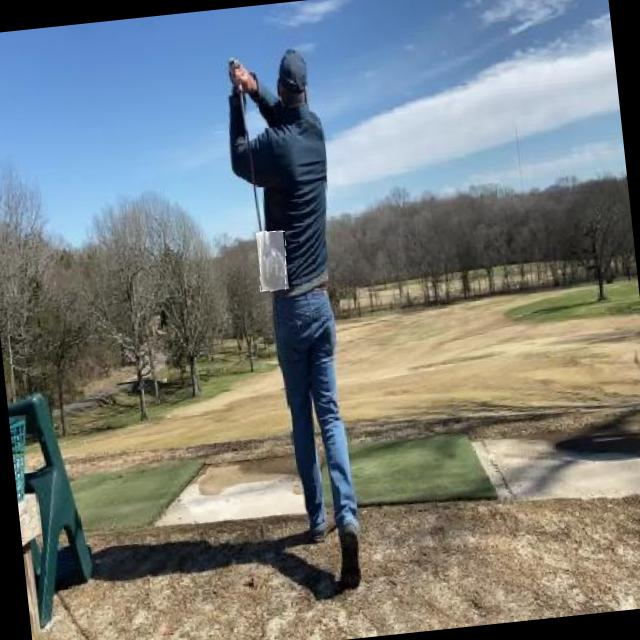club head: (256, 229, 288, 291)
